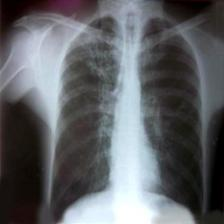tuberculosis: (43, 5, 210, 224)
